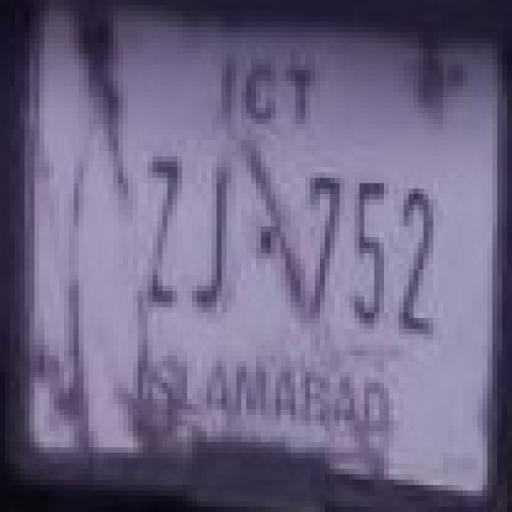2: (396, 181, 453, 344)
5: (340, 162, 391, 332)
7: (302, 157, 340, 331)
J: (198, 162, 234, 323)
Z: (132, 149, 188, 313)
